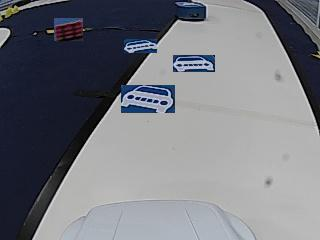prop: (176, 2, 205, 21)
